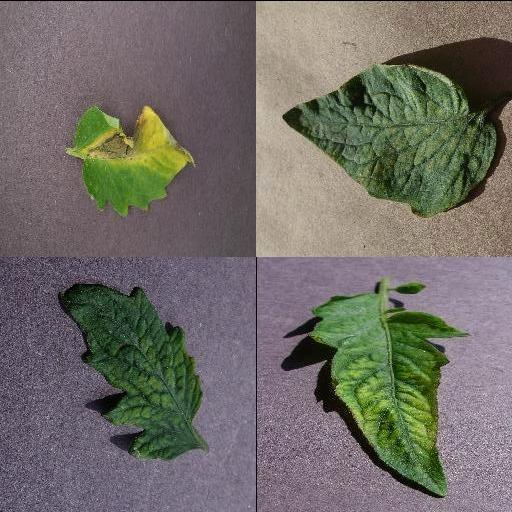Late Blight: (76, 101, 194, 217)
Mosaic Virus: (308, 293, 468, 497), (60, 282, 204, 460)
Spider Mites: (282, 62, 498, 216)
